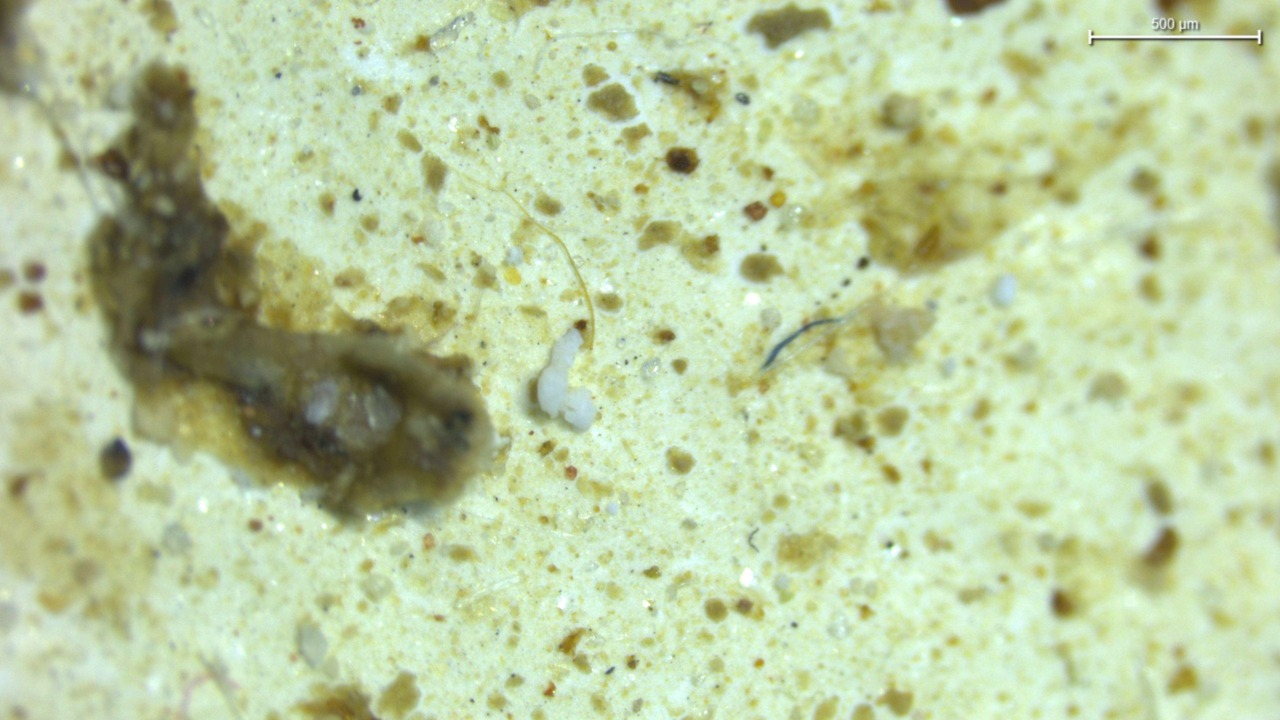microplastic_fragment: (537, 328, 596, 430)
